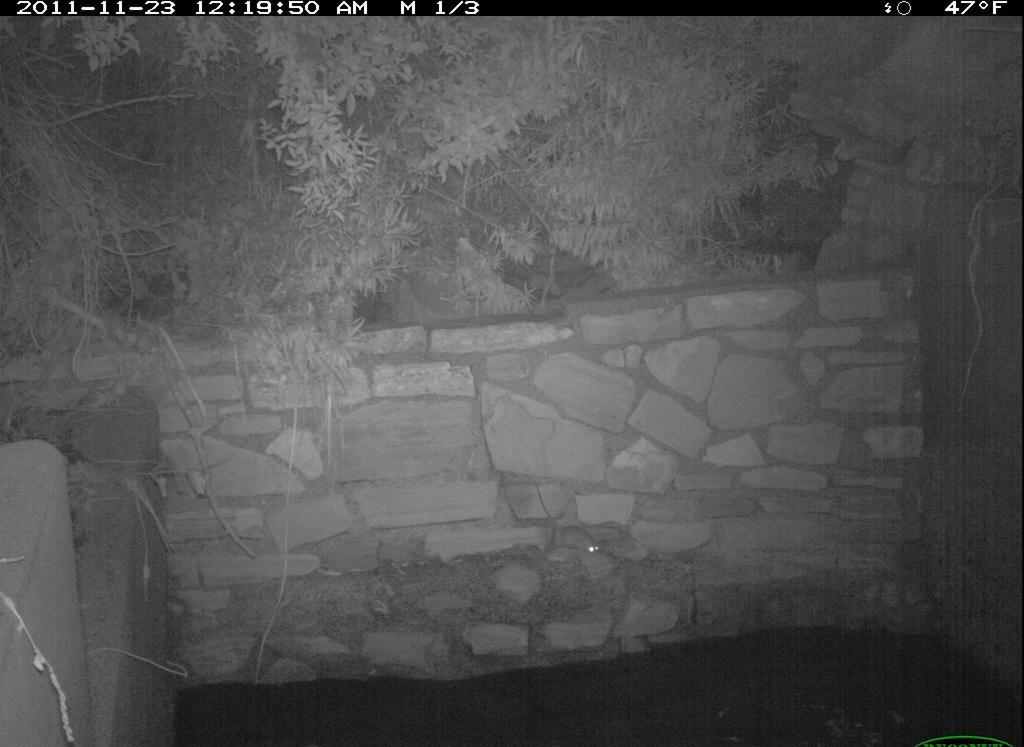rodent: (549, 511, 624, 581)
